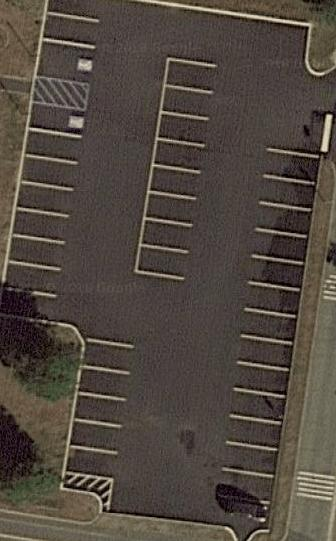parkingspot: (212, 146, 325, 506), (0, 100, 90, 325), (135, 57, 222, 282), (60, 335, 142, 483), (33, 0, 109, 89)
